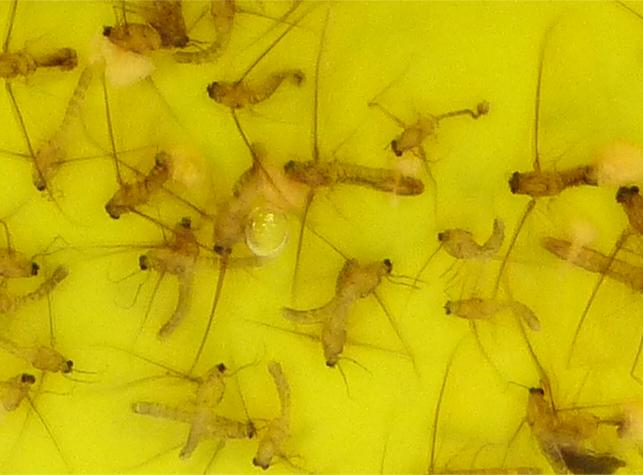Ephemeroptera: (28, 61, 95, 193), (280, 248, 394, 325), (204, 135, 272, 261), (277, 154, 429, 197), (100, 139, 178, 221), (385, 100, 494, 158), (131, 246, 195, 343), (127, 398, 259, 443), (100, 4, 211, 57), (177, 360, 230, 463), (520, 380, 576, 475), (249, 361, 294, 470), (204, 66, 311, 111), (440, 289, 543, 335), (318, 257, 358, 375), (170, 1, 236, 66), (505, 161, 612, 197), (1, 335, 78, 376), (429, 223, 506, 262), (1, 46, 81, 82), (145, 1, 193, 49), (1, 368, 38, 416), (1, 244, 41, 280)
